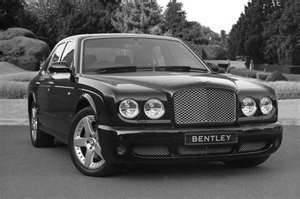car: (27, 34, 285, 180)
